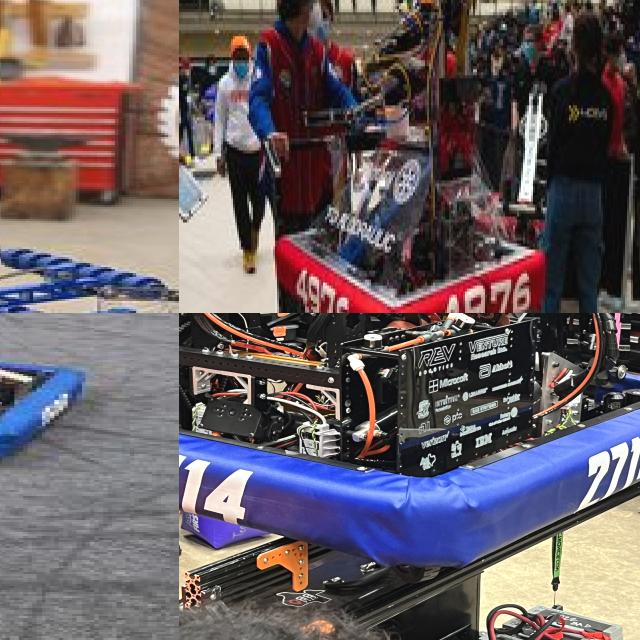FRC-Robots: (179, 313, 640, 566), (276, 0, 592, 313), (0, 0, 179, 313), (0, 313, 136, 467)
